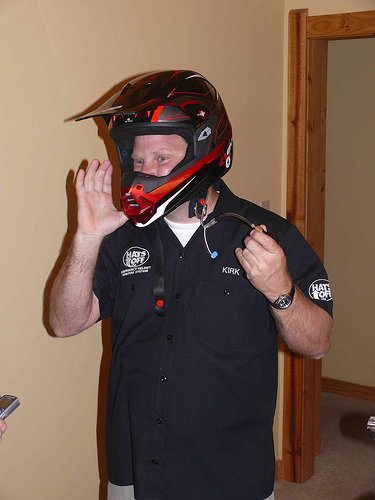helmet: (103, 78, 244, 195)
